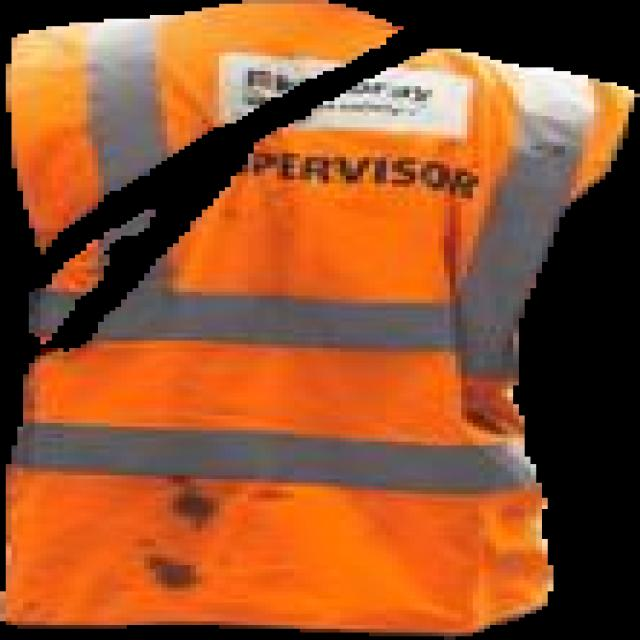Colete: (0, 49, 639, 639)
